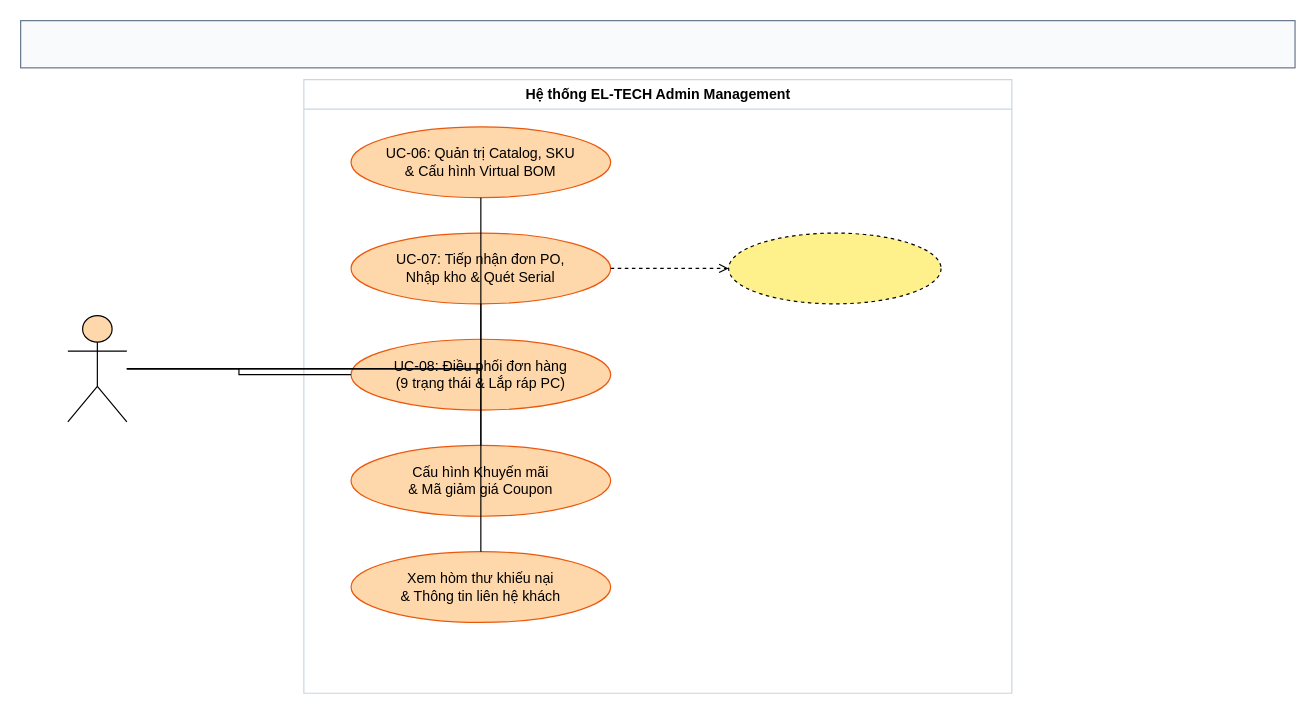
The diagram is 1316 pixels wide and 714 high, and some of its shapes have lost their labels. The shapes that lost their labels are listed below. From the top down, each one's centre as x and y in pixels, then its label:
the point at 657,43: SƠ ĐỒ USE CASE: TỔNG THỂ PHÂN HỆ QUẢN TRỊ VIÊN (ADMIN PORTAL)
the point at 834,268: <<include>> Hạch toán giá vốn WAC
the point at 97,368: Quản trị viên (Store Admin)
